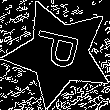P_E: (30, 30, 89, 77)
